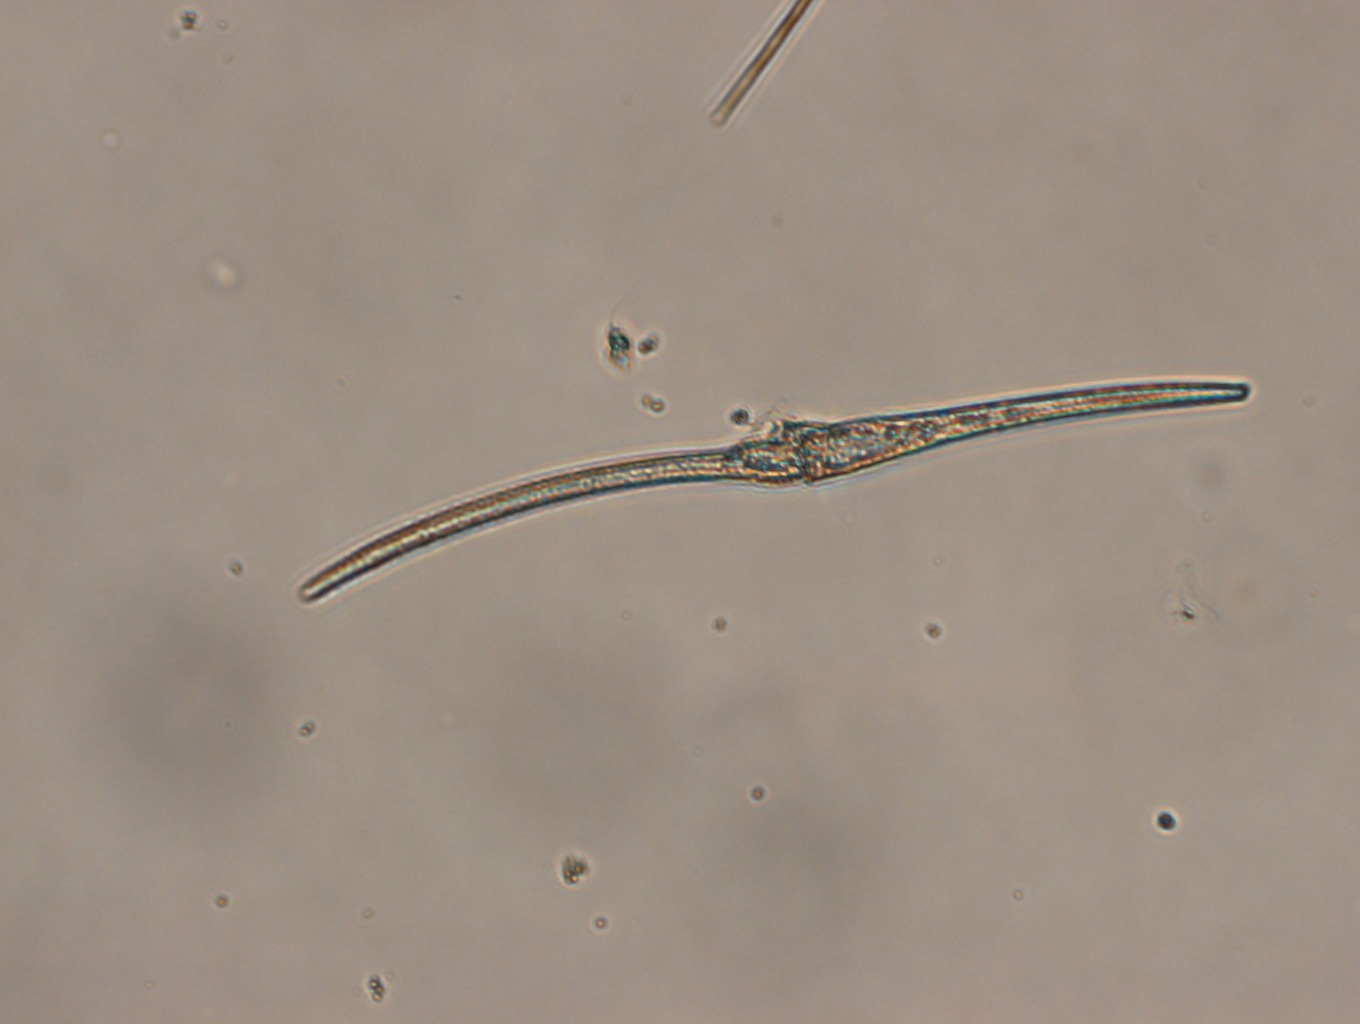ceratium fusus: (292, 376, 1252, 601)
